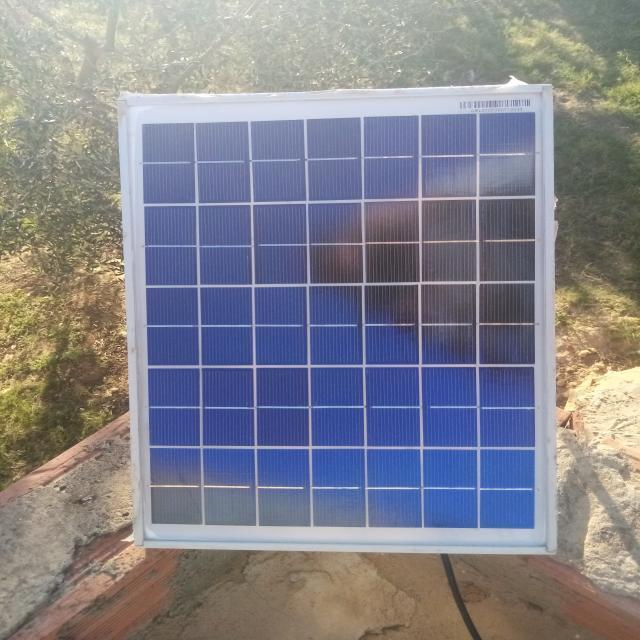Normal Solar Panel: (121, 86, 556, 552)
